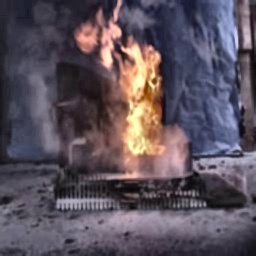fire: (76, 4, 196, 179)
